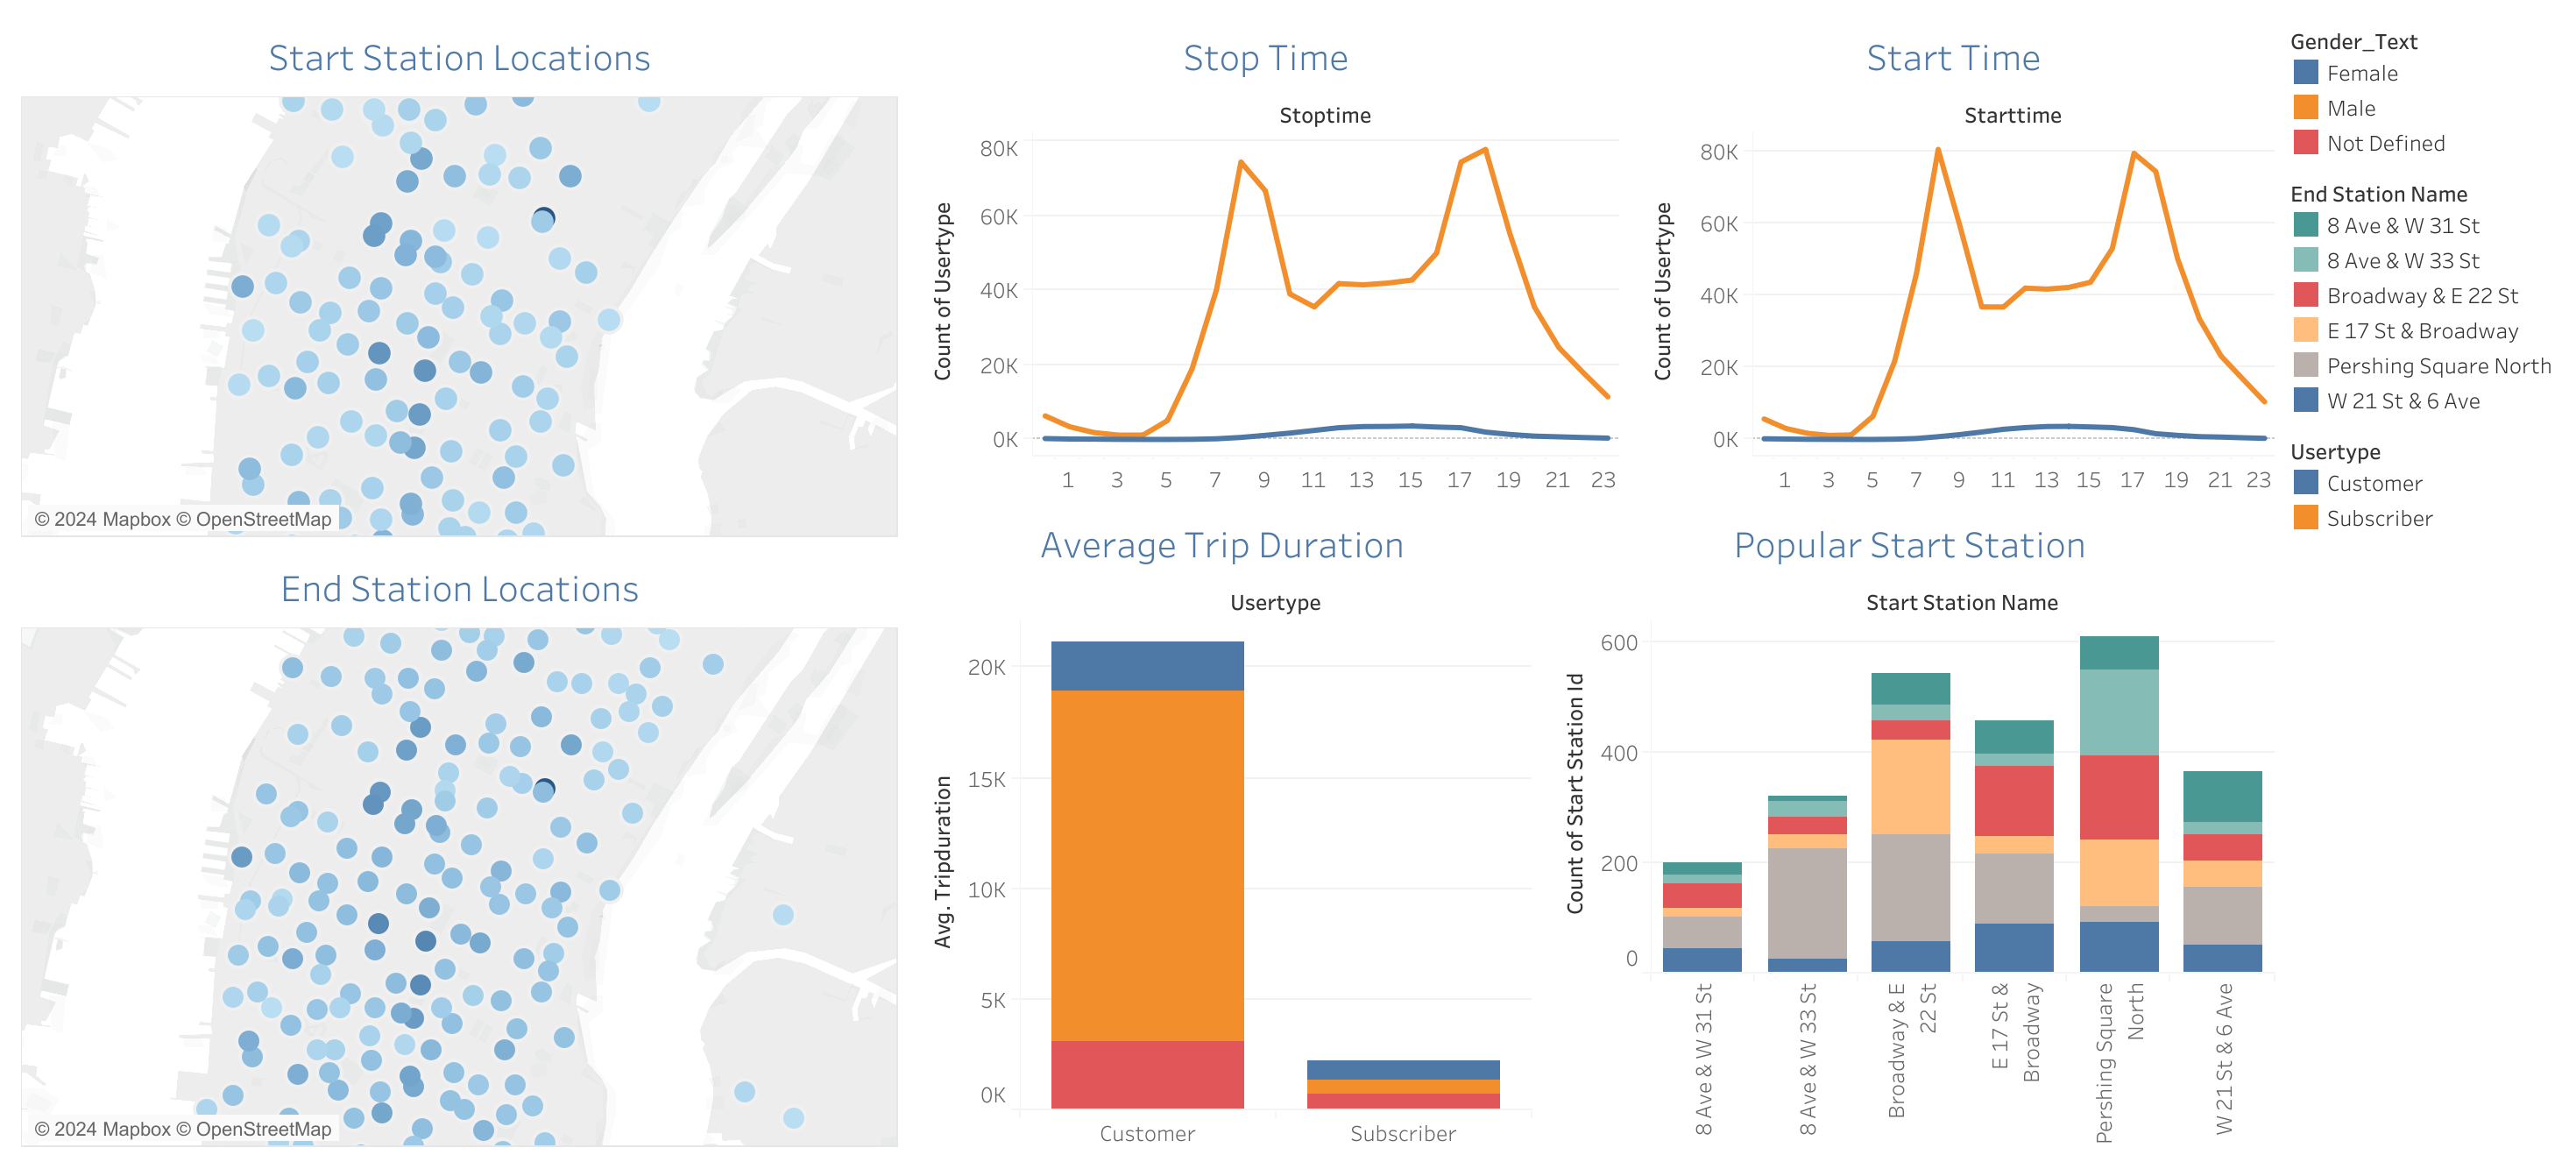

The page's visual inventory and layout, read from the dashboard file:
{"tool":"tableau","page":{"name":"Dashboard 1","canvas":[1000,1000],"units":"permille","ordinal":0},"visuals":[{"type":"worksheet","title":"Start Station Points","mark":"Automatic","rows":["start station latitude"],"cols":["start station longitude"],"box":[6.4,11.2,338.4,455.2]},{"type":"worksheet","title":"Stop Time","mark":"Automatic","rows":["usertype"],"cols":["stoptime"],"box":[344.7,11.2,273.2,417.4]},{"type":"worksheet","title":"Start Time","mark":"Automatic","rows":["usertype"],"cols":["starttime"],"box":[618,11.2,248.6,417.4]},{"type":"legend","title":"Average Trip Duration","param":"[federated.0adw8e60kk6tqx11iw81f1ehgk27].[none:Calculation_6358801207603339264:n","box":[866.6,11.2,127.1,120.4]},{"type":"legend","title":"Popular Start Station","param":"[federated.0adw8e60kk6tqx11iw81f1ehgk27].[none:end station name:nk]","box":[866.6,131.6,127.1,204.5]},{"type":"legend","title":"Start Time","param":"[federated.0adw8e60kk6tqx11iw81f1ehgk27].[none:usertype:nk]","box":[866.6,336.1,127.1,92.4]},{"type":"worksheet","title":"Average Trip Duration","mark":"Automatic","rows":["tripduration"],"cols":["usertype"],"box":[344.7,428.6,239.9,560.2]},{"type":"worksheet","title":"Popular Start Station","mark":"Automatic","rows":["start station id"],"cols":["start station name"],"box":[584.6,428.6,282,560.2]},{"type":"worksheet","title":" End station points","mark":"Automatic","rows":["end station latitude"],"cols":["end station longitude"],"box":[6.4,466.4,338.4,522.4]}]}

Visuals, with their boxes on the dashboard's canvas, which has no fixed pixel size, in thousandths of its width and height (x1, y1, x2, y2). These are canvas units, not pixel positions in the 2576x1169 screenshot, which may show the page scaled, cropped or inside an application window:
"Start Station Points" worksheet: (x1=6, y1=11, x2=345, y2=466)
"Stop Time" worksheet: (x1=345, y1=11, x2=618, y2=429)
"Start Time" worksheet: (x1=618, y1=11, x2=867, y2=429)
"Average Trip Duration" legend: (x1=867, y1=11, x2=994, y2=132)
"Popular Start Station" legend: (x1=867, y1=132, x2=994, y2=336)
"Start Time" legend: (x1=867, y1=336, x2=994, y2=428)
"Average Trip Duration" worksheet: (x1=345, y1=429, x2=585, y2=989)
"Popular Start Station" worksheet: (x1=585, y1=429, x2=867, y2=989)
" End station points" worksheet: (x1=6, y1=466, x2=345, y2=989)
